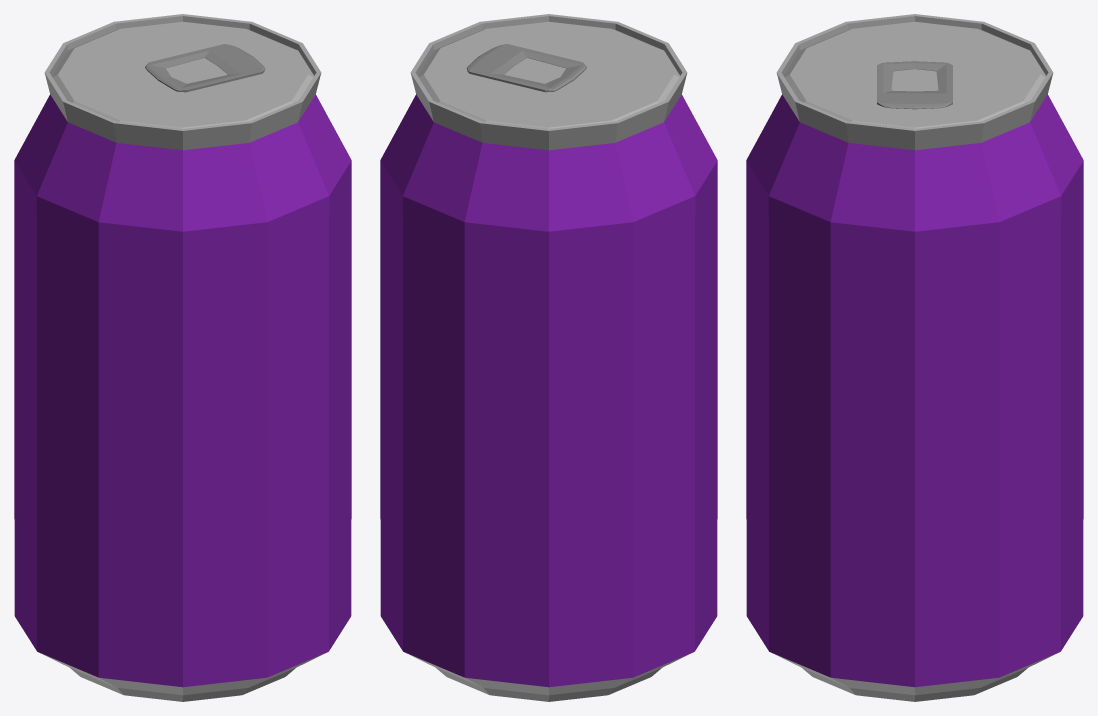
The model's file is lata de refri.fbx.
The picture shows the model from 3 angles, left to right: view 1: azimuth 30°, elevation 25°; view 2: azimuth 150°, elevation 25°; view 3: azimuth 270°, elevation 25°; orthographic projection.
Parts seen in each view (by area): view 1: Cube.001; view 2: Cube.001; view 3: Cube.001.
Part boxes in pixels (x1=…): Cube.001: x1=14, y1=14, x2=351, y2=701; Cube.001: x1=380, y1=14, x2=717, y2=701; Cube.001: x1=746, y1=14, x2=1083, y2=701.
Bounding box in the file's own units: 200 × 379 × 200.
